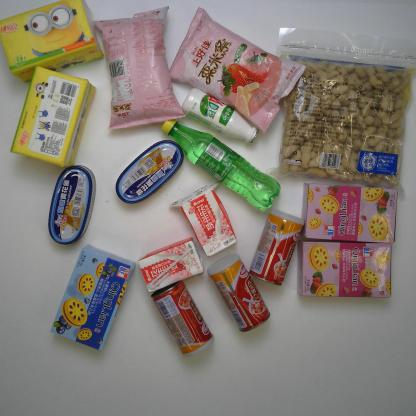Canned Food: (206, 253, 271, 332), (150, 280, 214, 359), (115, 139, 186, 205), (248, 208, 305, 287), (48, 164, 96, 246)
Dessert: (49, 243, 136, 353), (301, 181, 398, 245), (296, 237, 392, 299)
Dried Food: (261, 26, 416, 202)
Drink: (160, 116, 281, 212)
Milk: (168, 180, 237, 257), (180, 87, 259, 144), (136, 236, 204, 293)
Puffed Food: (168, 6, 309, 135), (92, 6, 187, 132)
Tissue: (9, 64, 98, 168), (0, 0, 104, 83)
